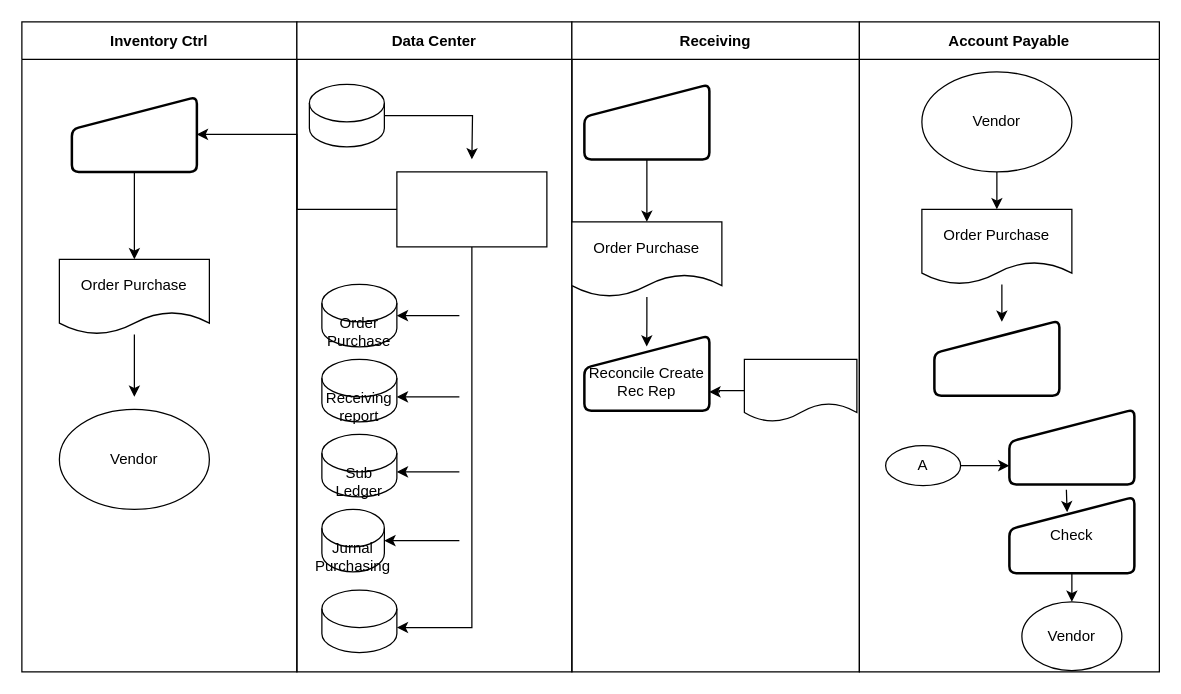
Some shapes in this 1181 by 694 pixel diagram are drawn without their labels. The centre of each missing label's shape, as x and y in pixels:
"AP Document" belongs at [1071,446].
"Cash" belongs at [359,620].
"Inventory" belongs at [346,115].
"Packing Slip" belongs at [800,390].
"PO" belongs at [646,121].
"Recoindle and post" belongs at [996,357].
"System Accounting" belongs at [471,209].
"Update Review Inventory" belongs at [134,133].
